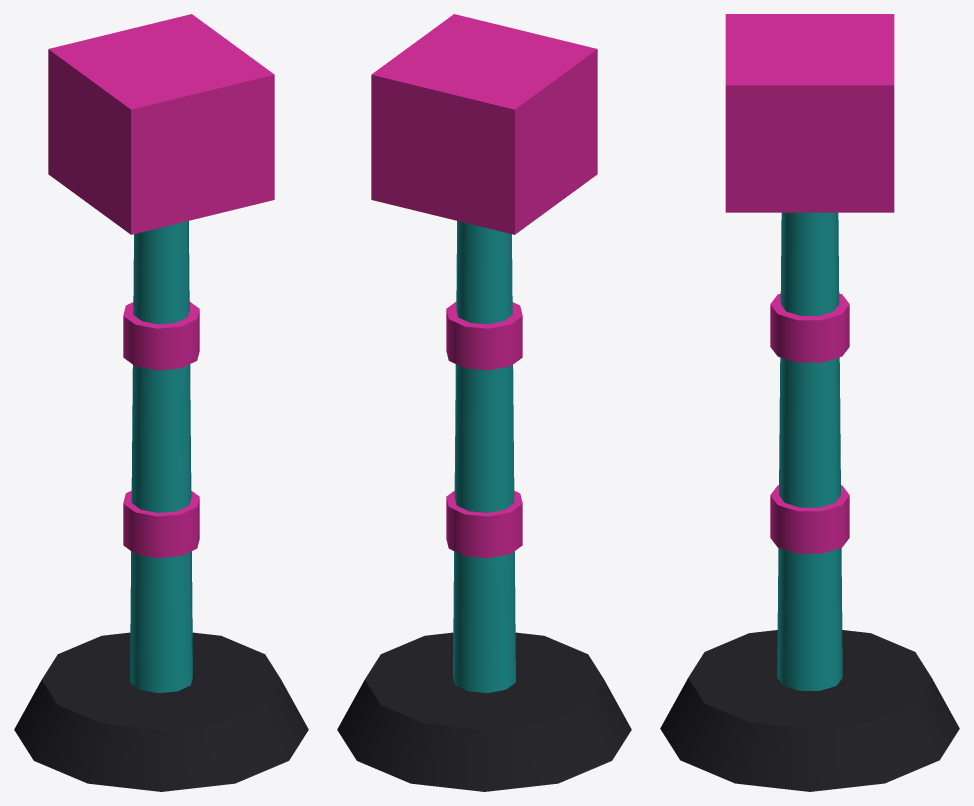
File: dev_beacon.glb
The picture shows the model from 3 angles, left to right: view 1: azimuth 30°, elevation 25°; view 2: azimuth 150°, elevation 25°; view 3: azimuth 270°, elevation 25°; orthographic projection.
Visible parts, largest first — view 1: Body, Top, BandHigh, BandLow; view 2: Body, Top, BandHigh, BandLow; view 3: Body, Top, BandHigh, BandLow.
Boxes of the visible parts, <box> form: Body: <box>14,221,308,791</box>; Top: <box>48,14,274,234</box>; BandHigh: <box>123,302,199,370</box>; BandLow: <box>123,491,199,558</box>; Body: <box>337,221,631,791</box>; Top: <box>371,14,597,234</box>; BandHigh: <box>446,302,522,370</box>; BandLow: <box>446,491,522,558</box>; Body: <box>660,212,959,791</box>; Top: <box>725,14,894,212</box>; BandHigh: <box>770,293,849,362</box>; BandLow: <box>770,485,849,553</box>.
Size of the model in its own units: 0.64 by 1.6 by 0.64.
